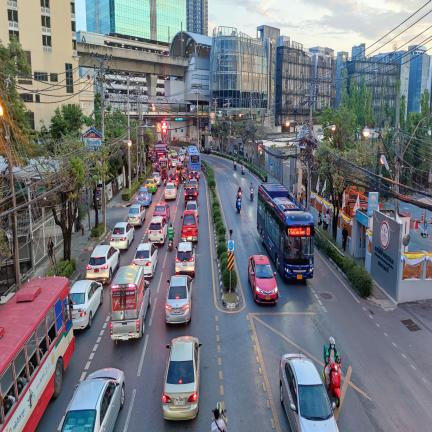bus: (0, 277, 75, 432), (257, 184, 314, 279), (184, 146, 200, 173)
car: (279, 353, 338, 432), (61, 368, 125, 432), (162, 336, 202, 420), (70, 279, 103, 329), (165, 275, 193, 324), (86, 245, 120, 284), (132, 243, 158, 278), (175, 242, 195, 277), (110, 222, 134, 250), (148, 216, 168, 245), (181, 210, 198, 241), (127, 204, 146, 227), (153, 202, 170, 221), (185, 200, 199, 222), (184, 185, 197, 208), (164, 183, 177, 200), (168, 173, 179, 188), (189, 178, 199, 194), (152, 172, 161, 186)
human: (324, 336, 340, 386), (210, 408, 227, 432), (216, 401, 228, 426), (47, 237, 54, 270), (342, 225, 349, 252), (8, 389, 16, 404), (168, 223, 174, 240), (325, 212, 330, 230), (318, 211, 322, 228), (296, 192, 300, 203)
motorbike: (330, 363, 341, 407), (236, 195, 241, 213), (168, 239, 173, 251), (250, 187, 254, 201), (322, 370, 325, 382), (183, 174, 186, 185), (179, 176, 183, 184), (234, 161, 237, 170), (241, 166, 244, 175), (164, 178, 167, 186), (328, 359, 330, 361), (340, 359, 341, 360)
pickup: (189, 170, 199, 181)
taxi: (248, 255, 278, 303), (136, 187, 152, 207), (146, 178, 158, 193)
truck: (110, 265, 151, 340)
